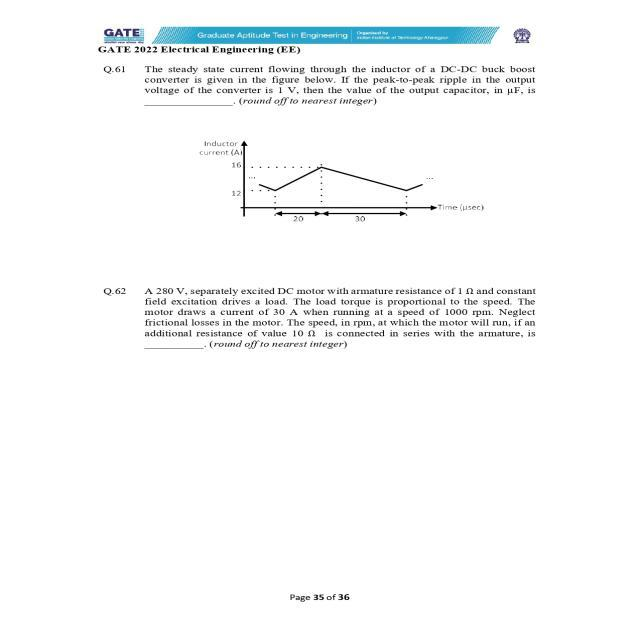Question_Answer_Block: (57, 52, 600, 252), (57, 266, 600, 416)
Question_Block: (57, 52, 600, 252), (57, 266, 600, 416)
Question_Paper_Area: (57, 52, 600, 415)
